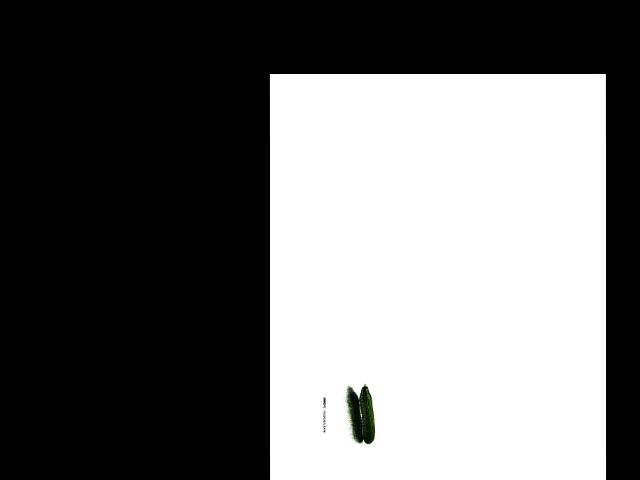cucumber: (358, 384, 375, 443)
